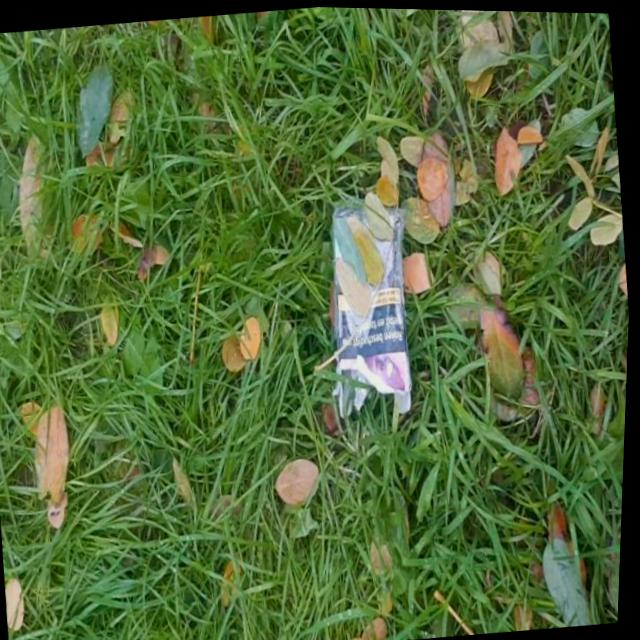Paper: (313, 193, 430, 421)
